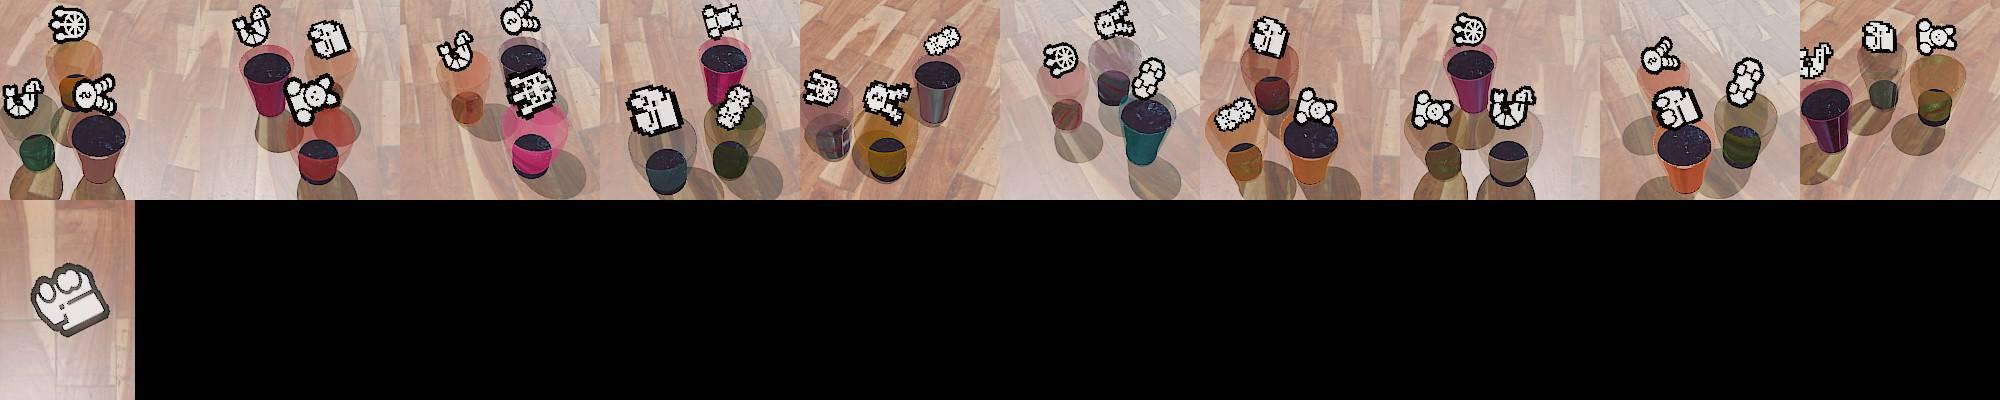icon: (29, 262, 112, 338), (626, 84, 684, 137), (505, 67, 559, 119), (284, 75, 339, 126), (1651, 86, 1702, 131), (862, 78, 912, 123), (1488, 83, 1537, 128), (68, 73, 118, 117), (1726, 57, 1764, 108), (713, 82, 755, 128), (1410, 88, 1455, 130), (1294, 85, 1339, 126), (1249, 14, 1290, 59), (435, 28, 476, 72), (307, 19, 351, 60), (1, 77, 43, 119), (1915, 17, 1958, 57), (1093, 1, 1135, 41), (232, 3, 271, 46), (1641, 35, 1681, 76), (1213, 95, 1256, 133), (701, 2, 743, 40), (1130, 56, 1167, 99), (48, 5, 89, 43), (500, 0, 540, 37), (802, 68, 841, 105), (1799, 40, 1834, 81), (1042, 41, 1079, 78), (1451, 12, 1487, 48), (1862, 20, 1898, 55), (923, 24, 960, 57)
